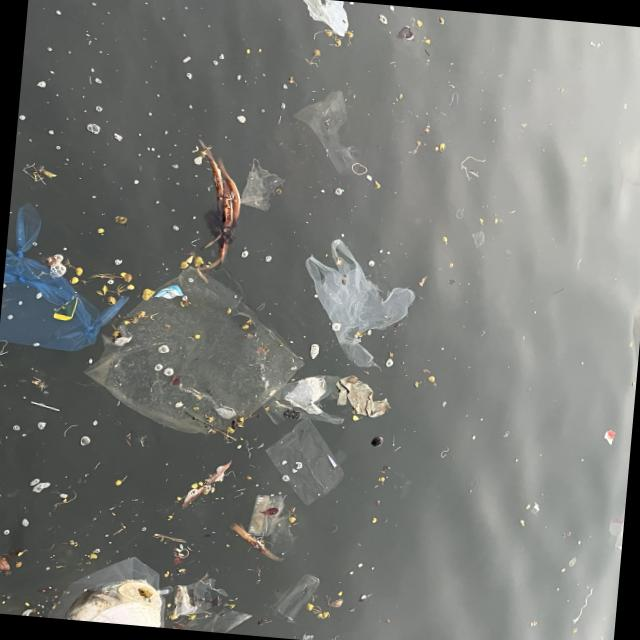foam: (83, 600, 161, 629)
plastic bag: (86, 267, 302, 437), (1, 212, 122, 349), (306, 240, 414, 373), (260, 366, 354, 430)
